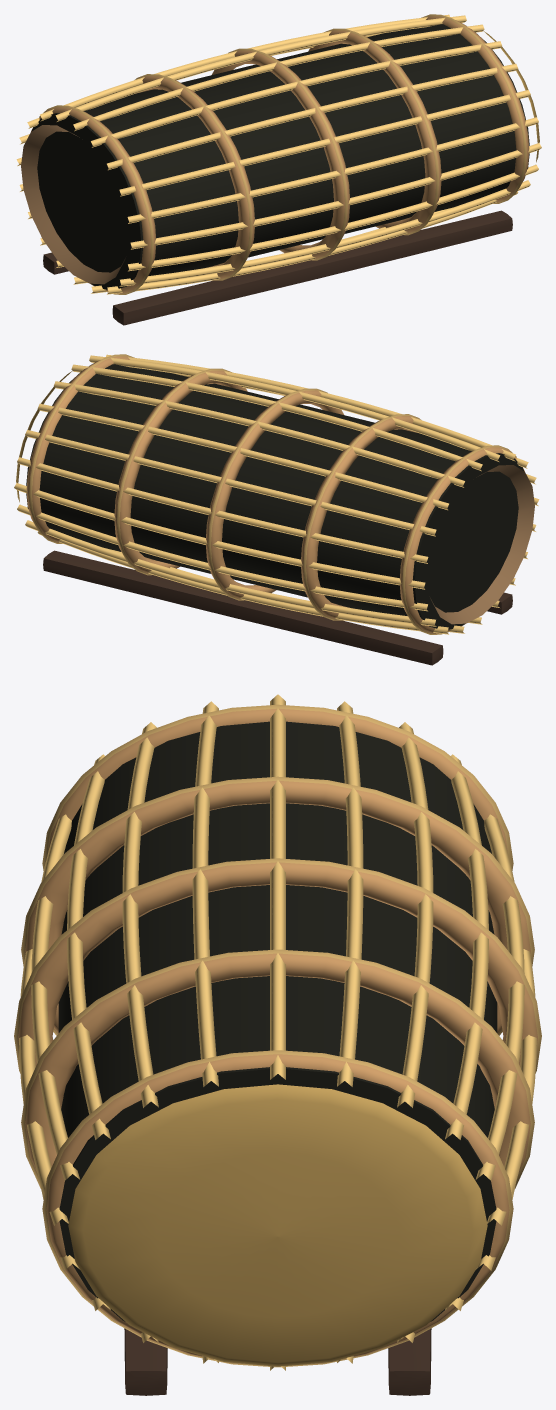
The model's file is detail_lobster_cage.glb.
3 views of the same model, one above another, from view 1: azimuth 30°, elevation 25°; view 2: azimuth 150°, elevation 25°; view 3: azimuth 270°, elevation 25° (orthographic). The views are drawn at different scales.
Parts seen in each view (by area): view 1: object 4, straw, wood, cloth; view 2: object 4, straw, wood, cloth; view 3: straw, object 4, wood, cloth.
Part boxes in pixels (x1,y1,x2,y2): object 4: [32, 24, 529, 289]; straw: [16, 14, 541, 294]; wood: [31, 16, 529, 325]; cloth: [21, 14, 526, 294]; object 4: [26, 364, 523, 629]; straw: [14, 354, 539, 634]; wood: [26, 356, 524, 665]; cloth: [29, 354, 534, 634]; straw: [19, 694, 536, 1370]; object 4: [58, 721, 497, 1321]; wood: [18, 708, 537, 1395]; cloth: [14, 704, 541, 1367].
Size of the model in its own units: 1.4 by 0.6 by 0.8.
